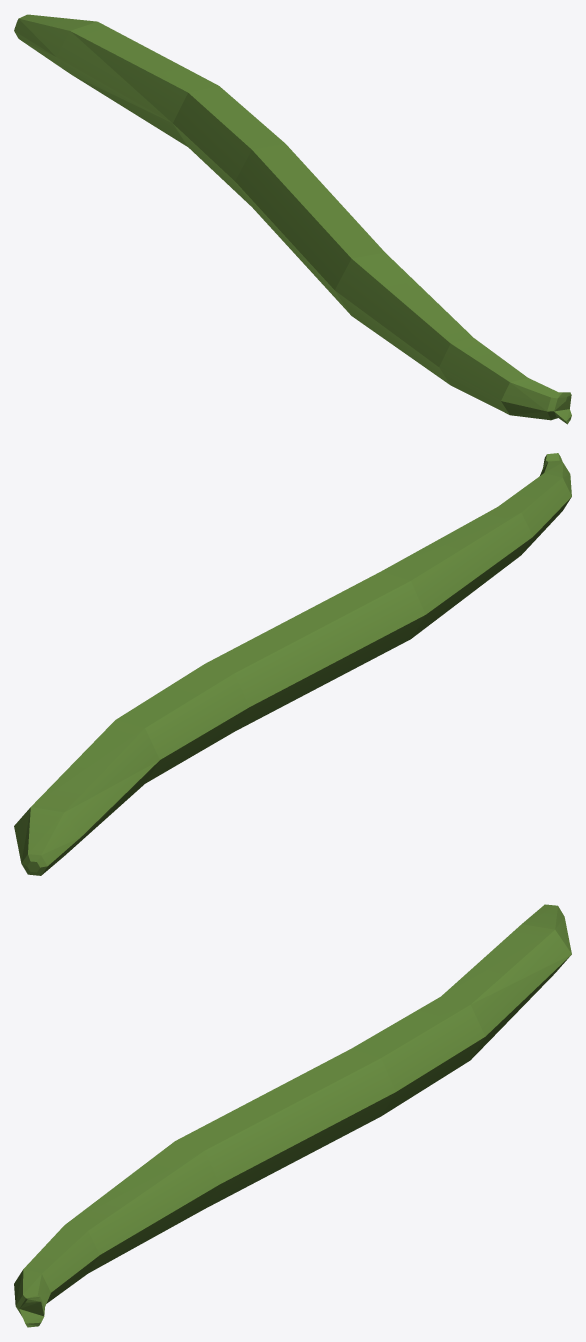
The model's file is Crop_Bean_03.obj.
The picture shows the model from 3 angles, top to bottom: view 1: azimuth 30°, elevation 25°; view 2: azimuth 150°, elevation 25°; view 3: azimuth 330°, elevation 25°; orthographic projection.
Parts seen in each view (by area): view 1: Crop_Bean_03; view 2: Crop_Bean_03; view 3: Crop_Bean_03.
Boxes of the visible parts, x1,y1,x2,y2 form: Crop_Bean_03: (14,14,571,424); Crop_Bean_03: (14,453,571,875); Crop_Bean_03: (14,904,571,1327).
Bounding box in the file's own units: 0.0162 × 0.00802 × 0.135.
1 material, 1 textured.
